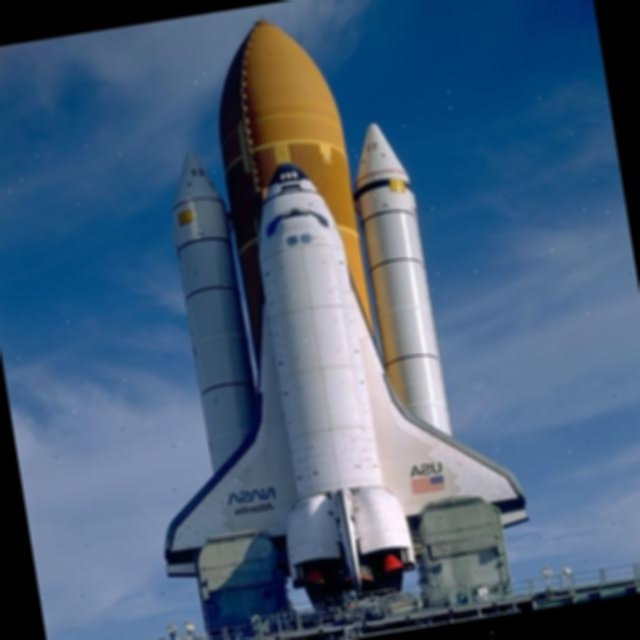rocket: (101, 138, 534, 626)
